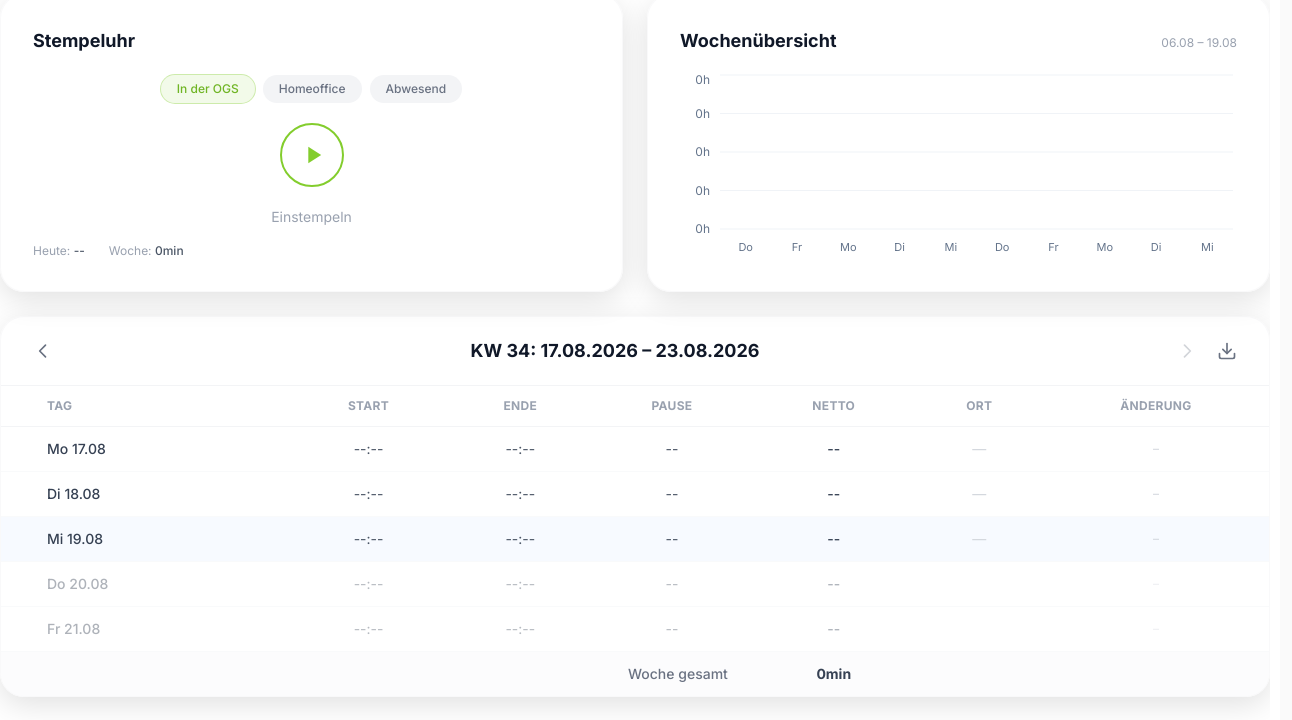
Test: TimeTrackingPage › no active session - check-in controls › shows Abwesenheit melden label when absent mode selected
Click the button "Abwesend": {"x": 416, "y": 89} [370,75,462,103]
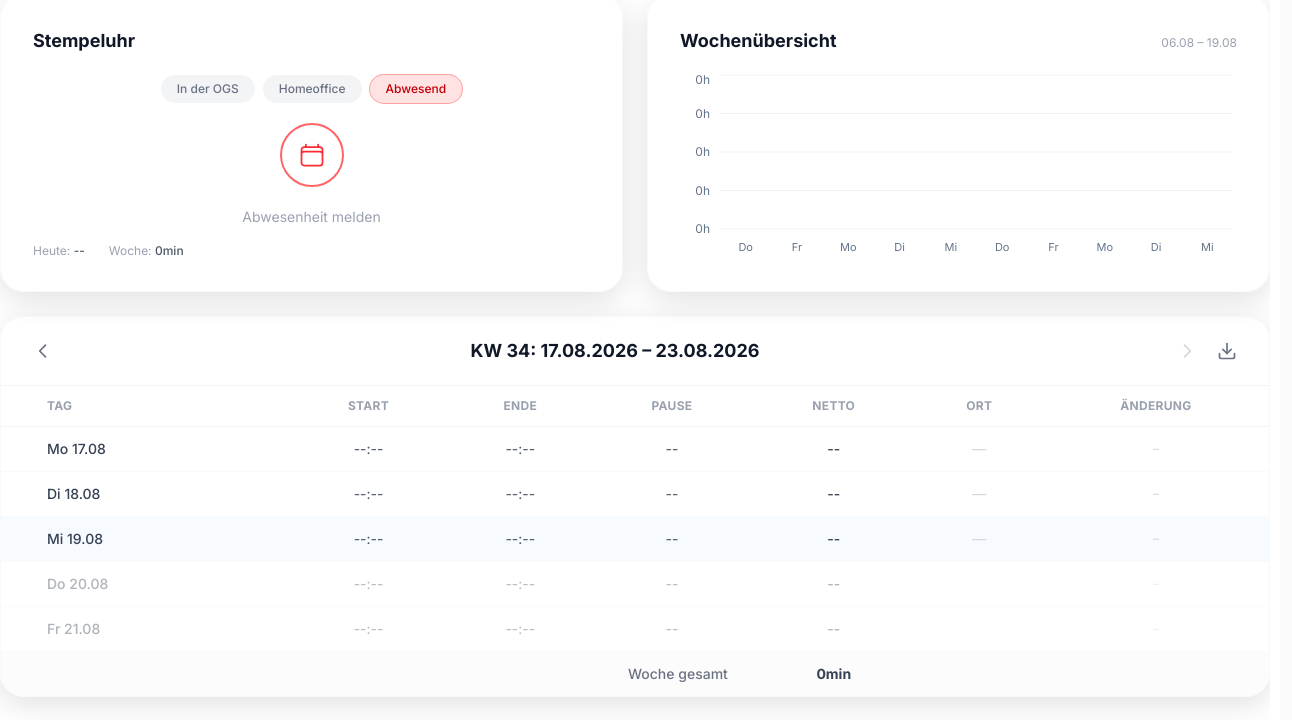
Expected: the text "Abwesenheit melden" is shown, [242,207,381,227]
